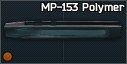MP-153 polymer stock: (0, 0, 127, 64)
